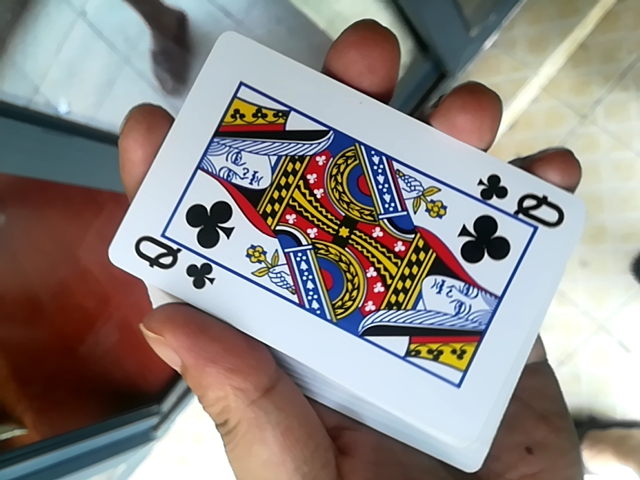mh q: (87, 29, 582, 476)
